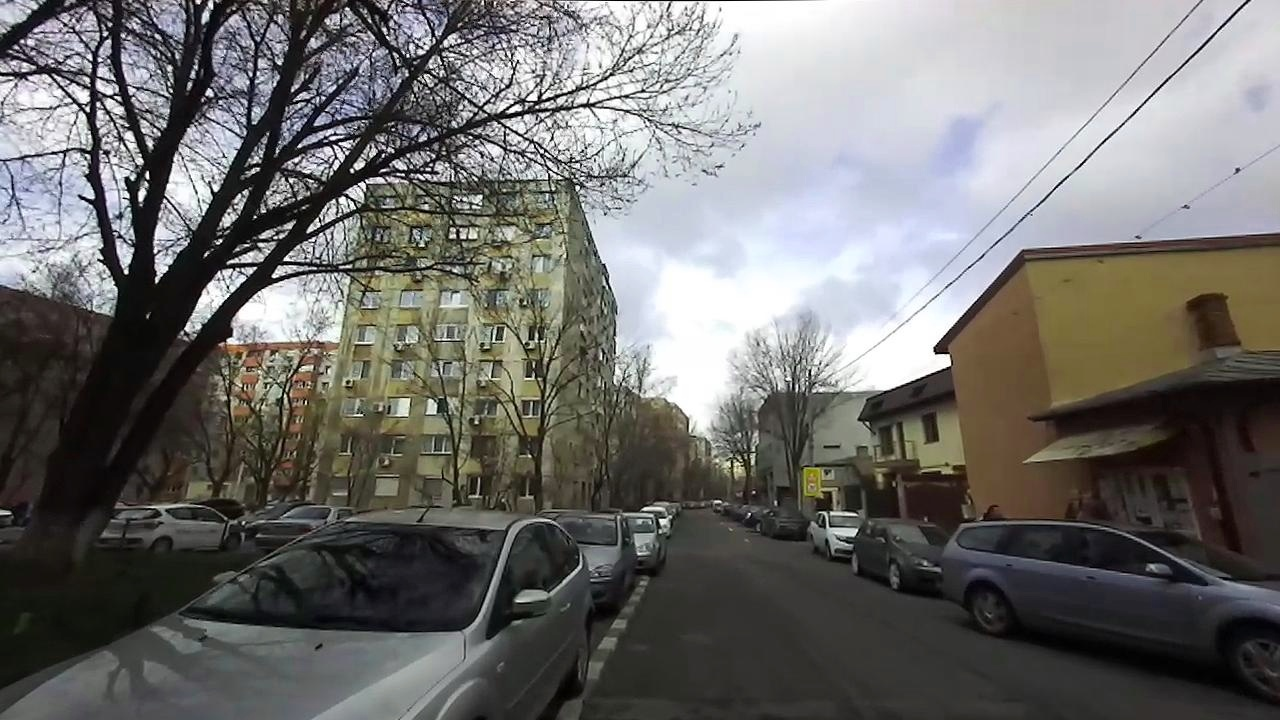pothole: (668, 690, 776, 720)
